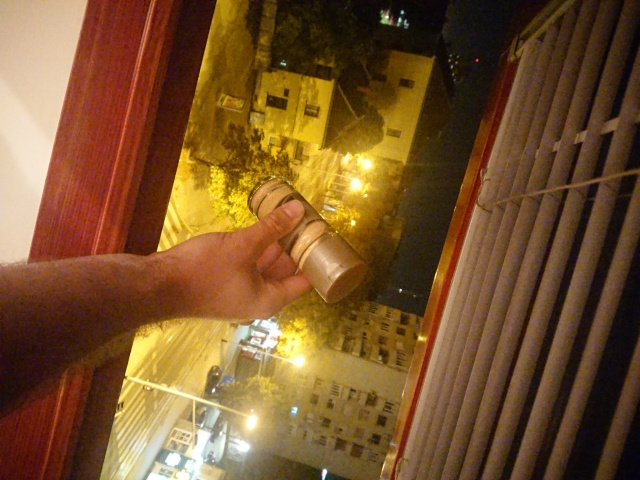Kotanyi Garlic Granules 70g: (246, 172, 371, 306)
